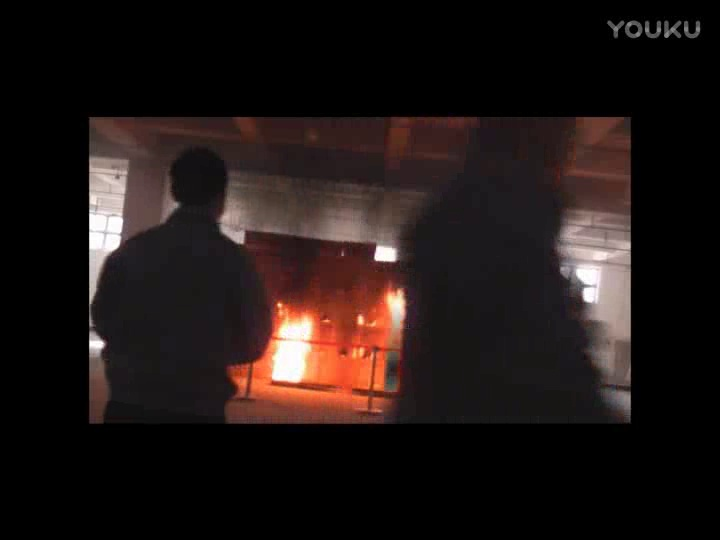fire: (266, 287, 318, 389), (383, 275, 414, 342)
